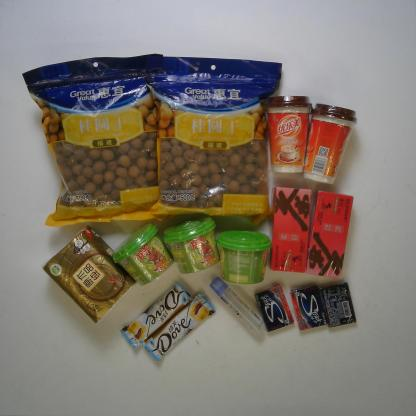Chocolate: (142, 290, 216, 362), (121, 283, 193, 350)
Dried Food: (20, 53, 168, 230), (147, 54, 283, 218)
Gum: (254, 285, 295, 333), (290, 283, 330, 331), (317, 282, 357, 328)
Instant Drink: (301, 103, 358, 186), (265, 86, 318, 175), (305, 190, 354, 280), (111, 223, 177, 289), (267, 185, 312, 274), (162, 211, 221, 275), (216, 228, 271, 287)
Stationery: (208, 276, 264, 336)
Tissue: (42, 224, 137, 326)
